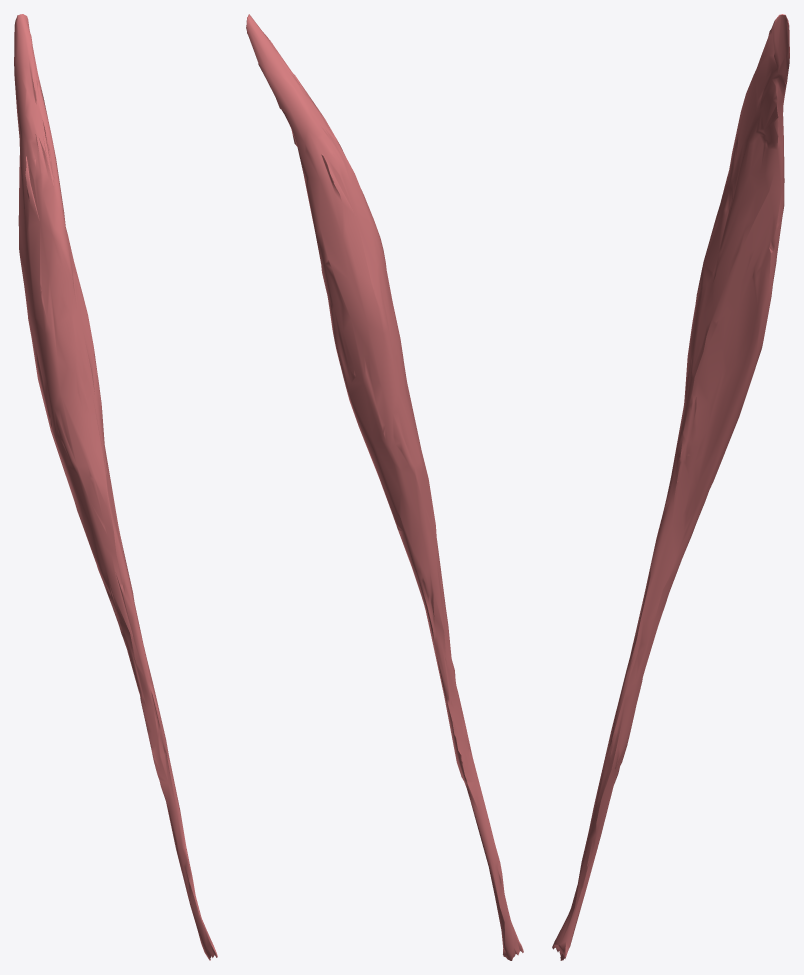
3 renders of one model, left to right at view 1: azimuth 90°, elevation 25°; view 2: azimuth 150°, elevation 25°; view 3: azimuth 270°, elevation 25°, orthographic. The views are drawn at different scales.
Parts seen in each view (by area): view 1: FJ1490; view 2: FJ1490; view 3: FJ1490.
Boxes of the visible parts, x1=… form: FJ1490: x1=14, y1=14, x2=217, y2=960; FJ1490: x1=246, y1=14, x2=523, y2=960; FJ1490: x1=552, y1=14, x2=789, y2=960.
Size of the model in its own units: 0.0575 by 0.3208 by 0.0674.
